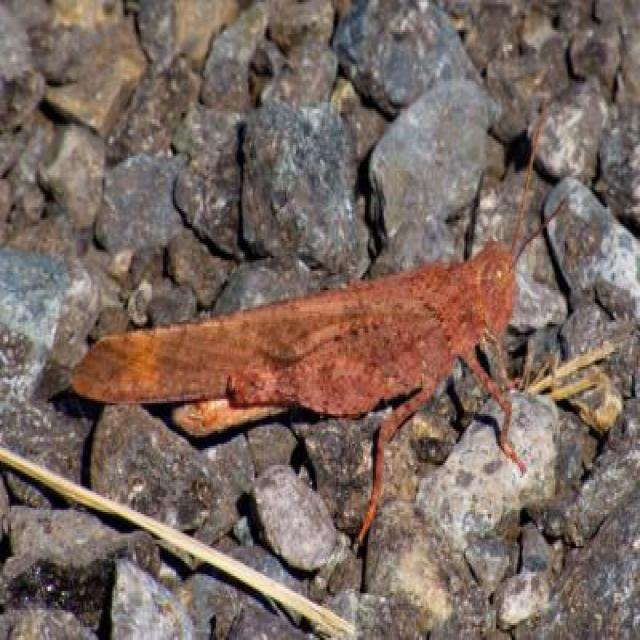body: (77, 252, 520, 433)
insect: (65, 104, 573, 547)
legs: (352, 376, 445, 547), (462, 349, 525, 475), (484, 336, 516, 390)
mouthpart: (485, 318, 512, 352)
wings: (76, 291, 388, 405), (506, 105, 547, 252), (521, 200, 564, 251)
